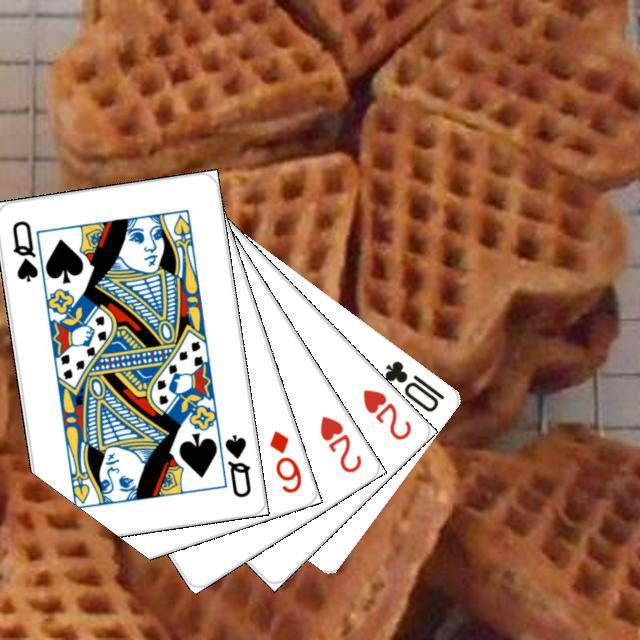10c: (379, 355, 447, 414)
2h: (314, 410, 364, 475), (358, 384, 414, 442)
6d: (264, 425, 303, 495)
Qs: (220, 430, 253, 499), (7, 215, 40, 284)
